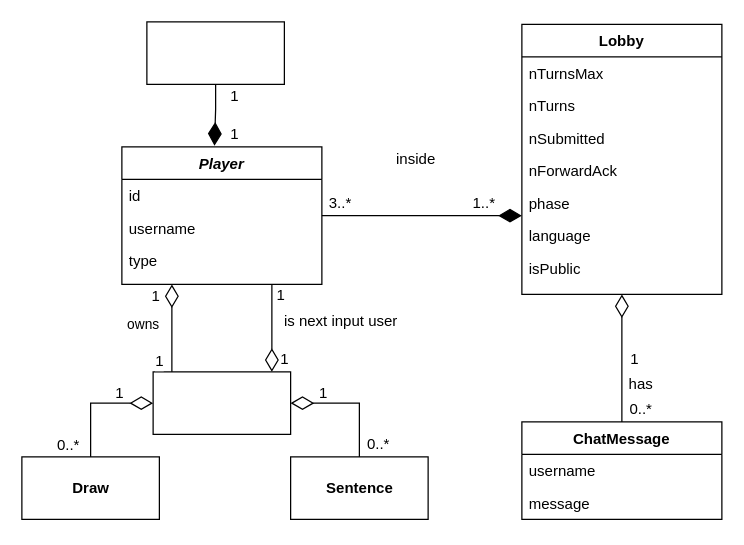
Image size: 744x545. Some labels were removed from this diagram. Here are the shapes that lost their labels. From the top down, the centre of each, then its label:
At [215,52]: "Socket".
At [221,402]: "Report".
